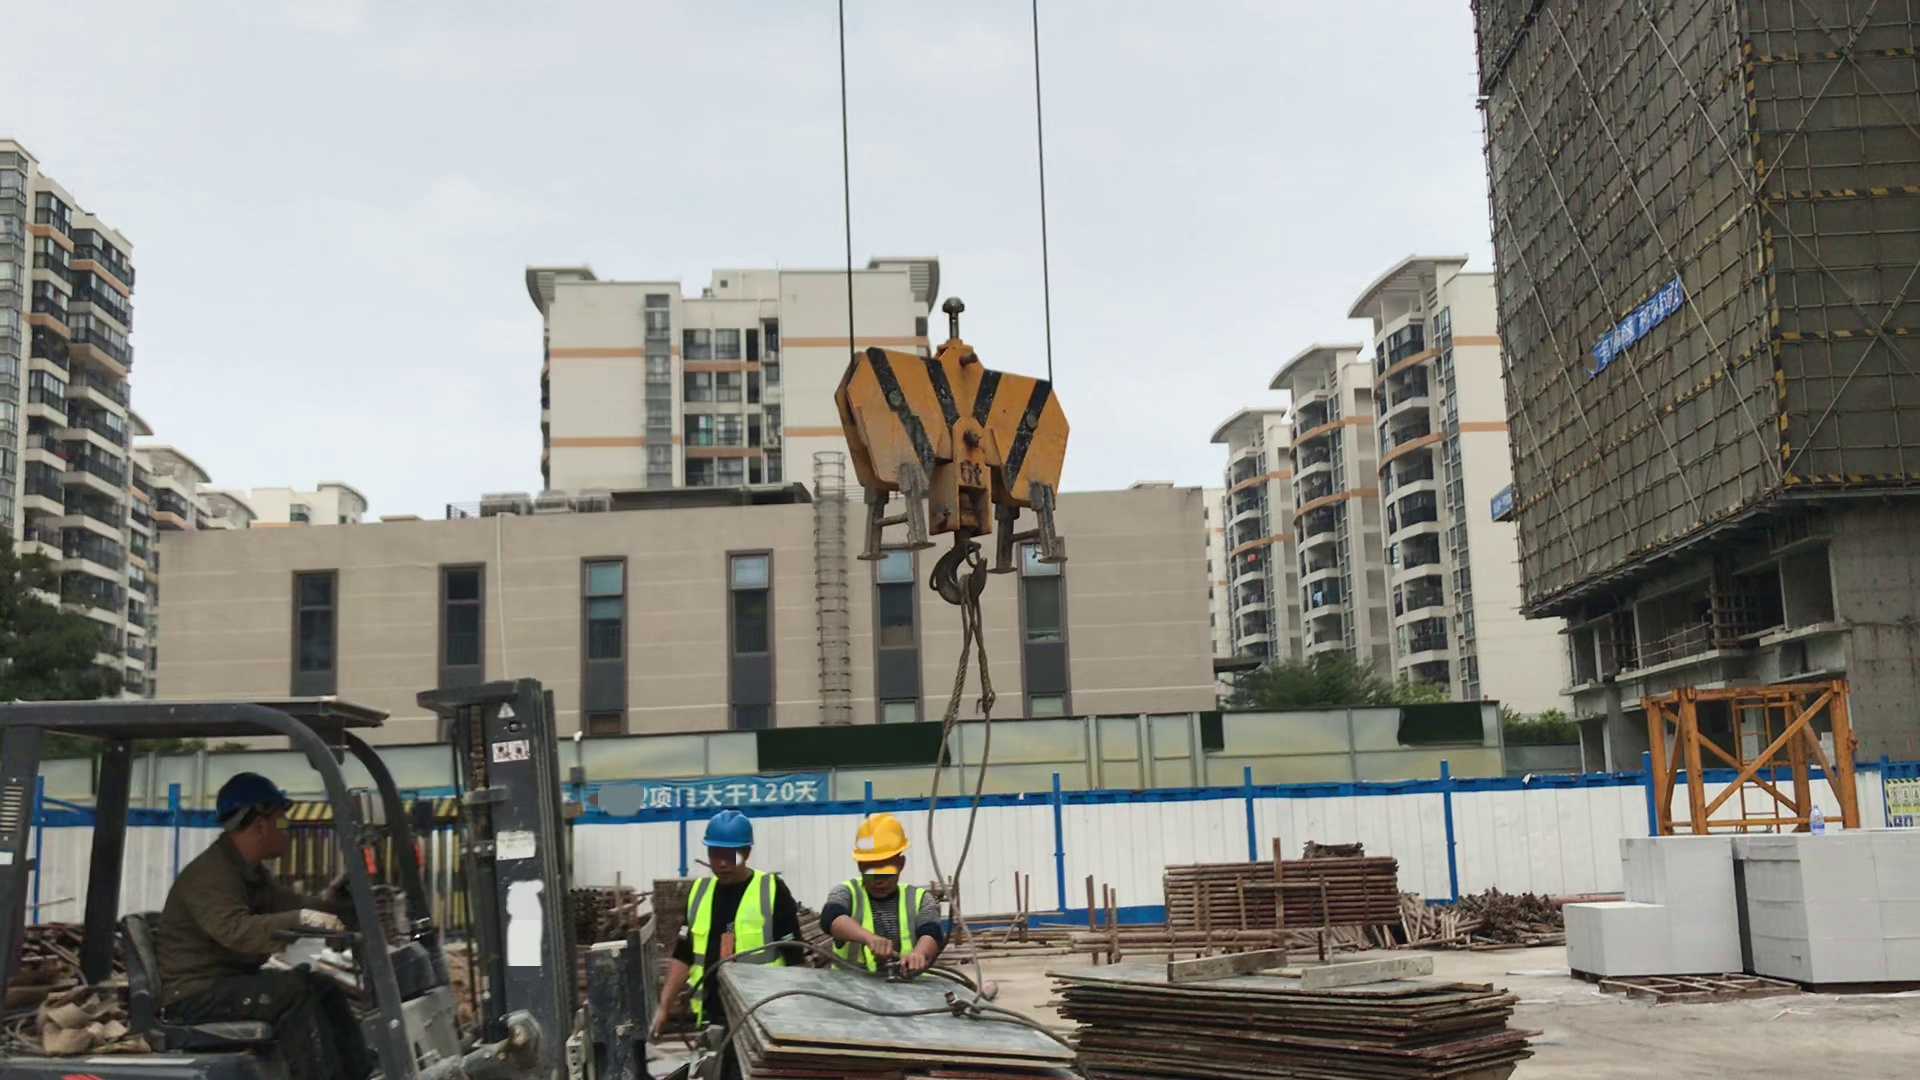board: (1052, 957, 1561, 1080), (718, 971, 1051, 1080)
brick: (1727, 812, 1919, 992), (1570, 811, 1737, 974)
helmet: (209, 766, 300, 822), (843, 814, 918, 861), (689, 814, 761, 849)
hook: (818, 283, 1102, 641)
person: (117, 765, 401, 1072), (658, 811, 814, 1072), (822, 809, 971, 995)
scaffold: (1151, 852, 1407, 931), (576, 883, 621, 943)
slogan: (531, 764, 838, 827), (1605, 294, 1690, 367)
vest: (685, 871, 784, 1013), (831, 887, 935, 971)
